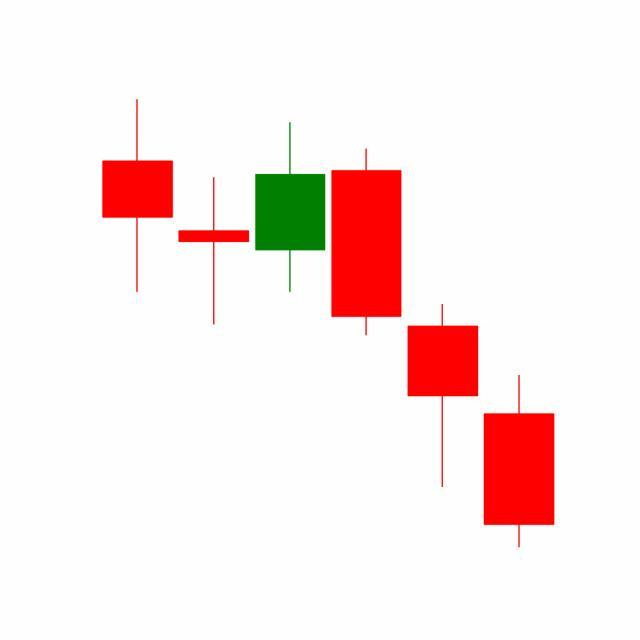Three Outside Up-Down: (252, 119, 482, 492)
